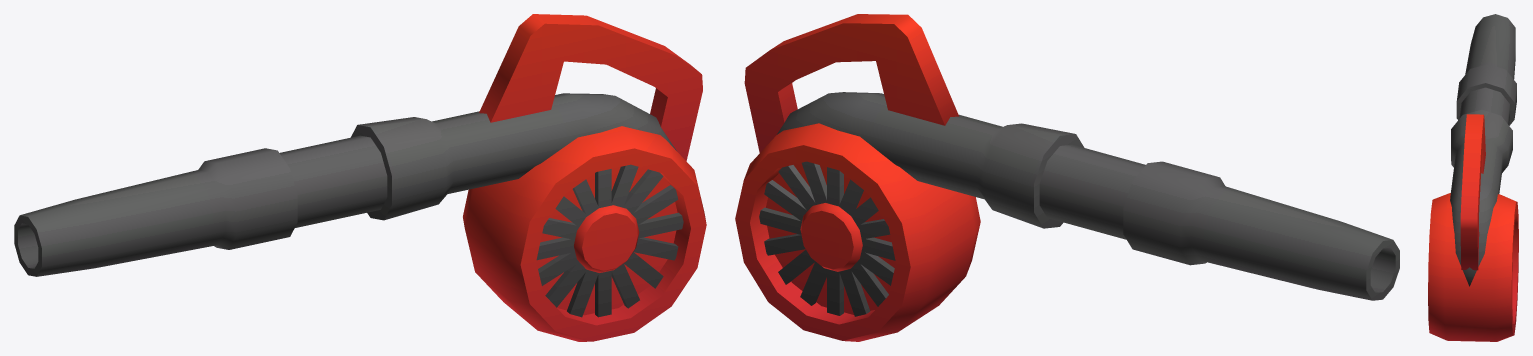
File: Leafblower.obj
3 renders of one model, left to right at view 1: azimuth 30°, elevation 25°; view 2: azimuth 150°, elevation 25°; view 3: azimuth 270°, elevation 25°, orthographic. The views are drawn at different scales.
Visible parts, largest first — view 1: Handle1; view 2: Handle1; view 3: Handle1.
Boxes of the visible parts, x1,y1,x2,y2 form: Handle1: [14, 14, 706, 341]; Handle1: [735, 14, 1399, 341]; Handle1: [1428, 14, 1518, 341].
Bounding box in the file's own units: 2 × 0.923 × 0.37.
1 material, 1 textured.
